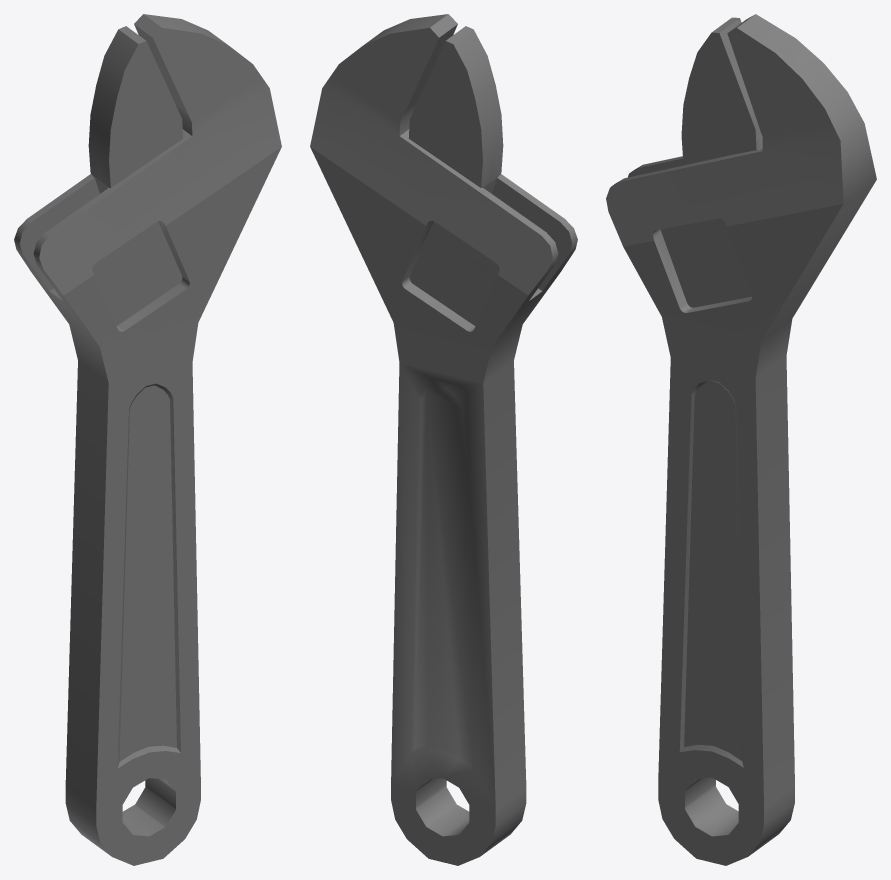
The model's file is spanner2.fbx.
3 views of the same model, side by side, from view 1: azimuth 30°, elevation 25°; view 2: azimuth 150°, elevation 25°; view 3: azimuth 330°, elevation 25° (orthographic).
Parts seen in each view (by area): view 1: Cube.003; view 2: Cube.003; view 3: Cube.003.
Part boxes in pixels (left/top/right/bottom): Cube.003: left=14, top=14, right=281, bottom=865; Cube.003: left=310, top=14, right=577, bottom=865; Cube.003: left=606, top=14, right=876, bottom=865.
Size of the model in its own units: 96.28 by 318 by 22.98.
